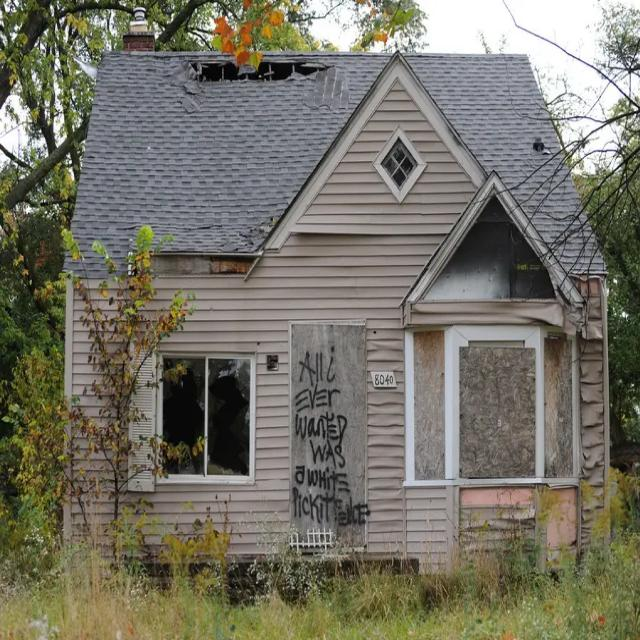House: (66, 2, 612, 589)
